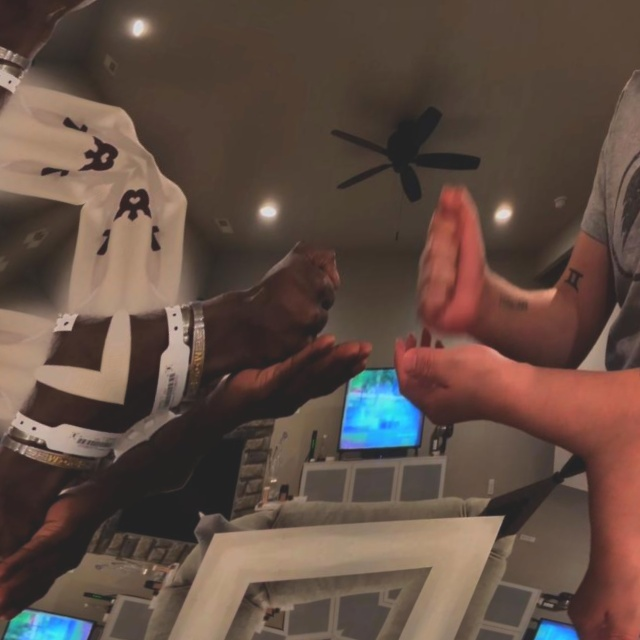Rock: (186, 194, 401, 403), (0, 0, 172, 80)
